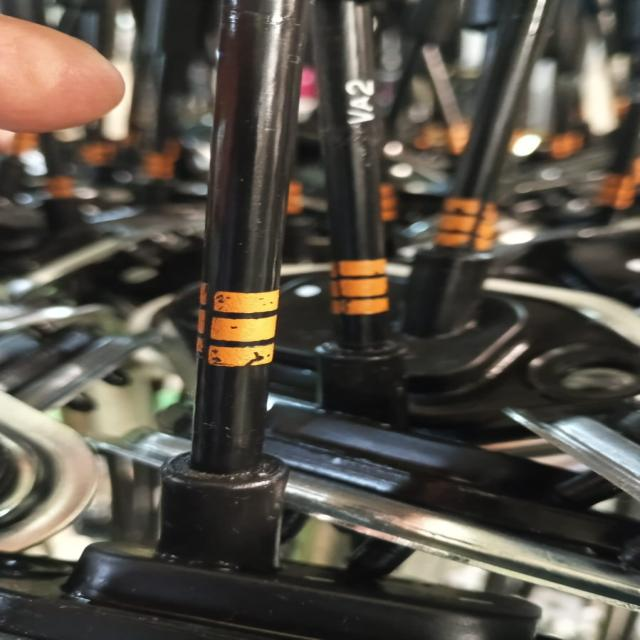orange: (192, 284, 276, 372), (326, 258, 398, 318), (436, 196, 494, 253)
